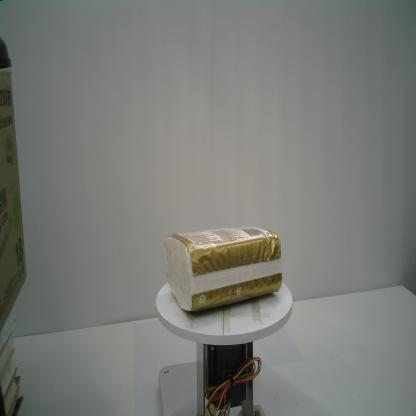Tissue: (164, 226, 283, 312)
